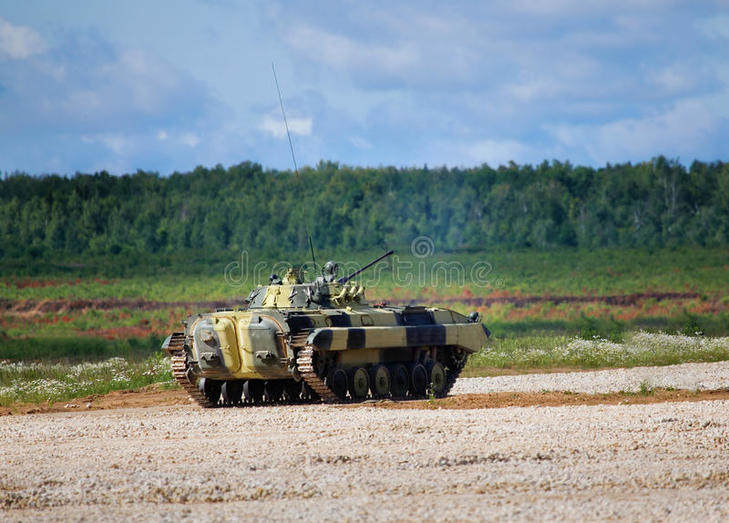bmp: (165, 260, 486, 400)
